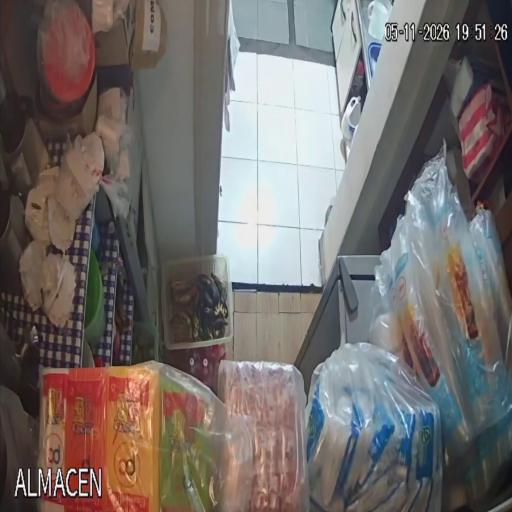Envase para platanos: (161, 255, 233, 350)
Productos culinarios: (369, 141, 512, 504), (35, 361, 253, 512), (306, 343, 442, 512), (218, 361, 309, 512)
Taper: (84, 250, 105, 346)
Taper2: (81, 338, 95, 367)
